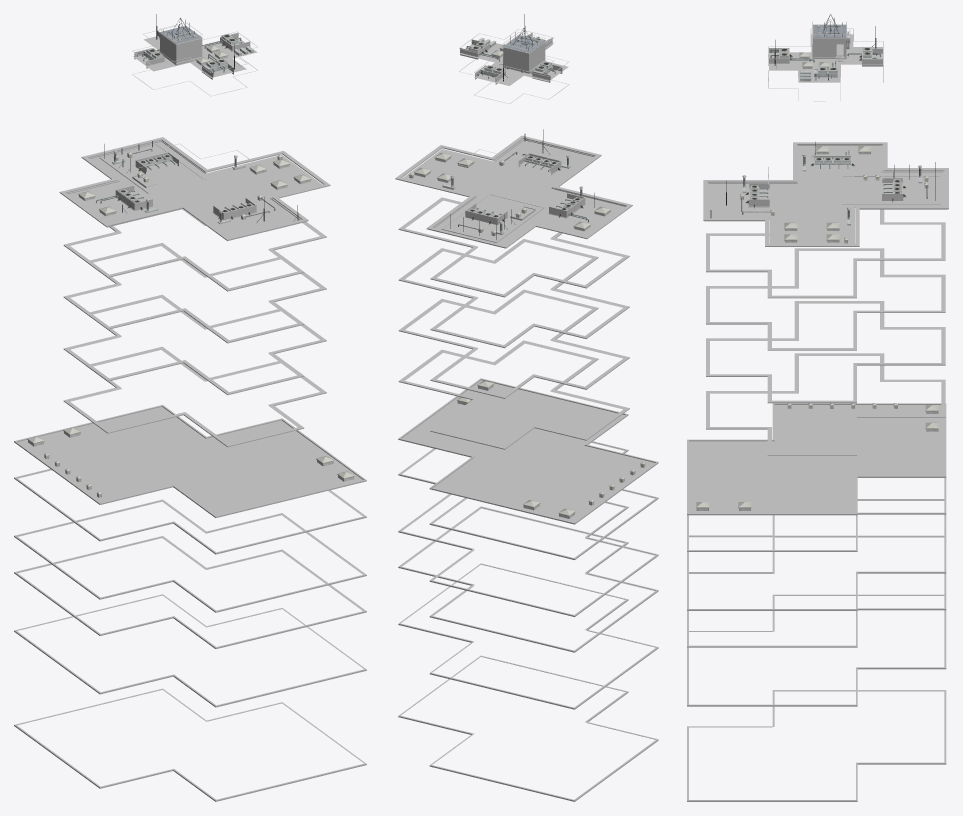
File: u2NWBuild2.gltf
3 renders of one model, left to right at view 1: azimuth 30°, elevation 25°; view 2: azimuth 150°, elevation 25°; view 3: azimuth 270°, elevation 25°, orthographic. The views are drawn at different scales.
Parts seen in each view (by area): view 1: u2NWBuild2; view 2: u2NWBuild2; view 3: u2NWBuild2.
Boxes of the visible parts, x1,y1,x2,y2 form: u2NWBuild2: (14, 14, 366, 801); u2NWBuild2: (395, 14, 658, 801); u2NWBuild2: (687, 14, 948, 801).
Size of the model in its own units: 12.91 by 39.36 by 12.78.
